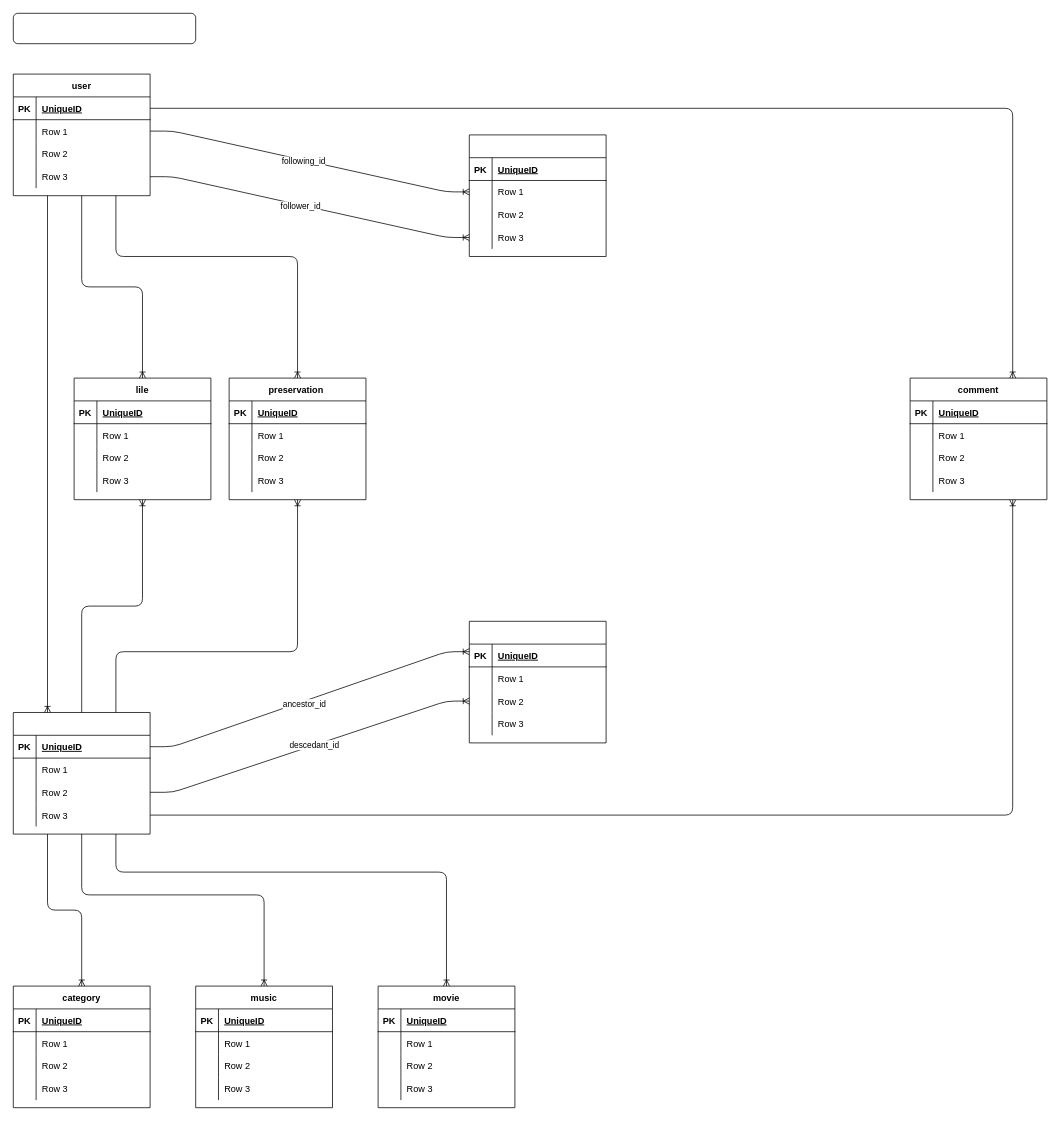
The diagram is 1060 pixels wide and 1121 high, and some of its shapes have lost their labels. The box of each missing label's shape, as (x1, y1, x2, y2) in pixels:
post: (13, 712, 150, 834)
relationship: (469, 134, 606, 256)
tree_path: (469, 621, 606, 743)
おとづけ ER図: (13, 13, 196, 44)
